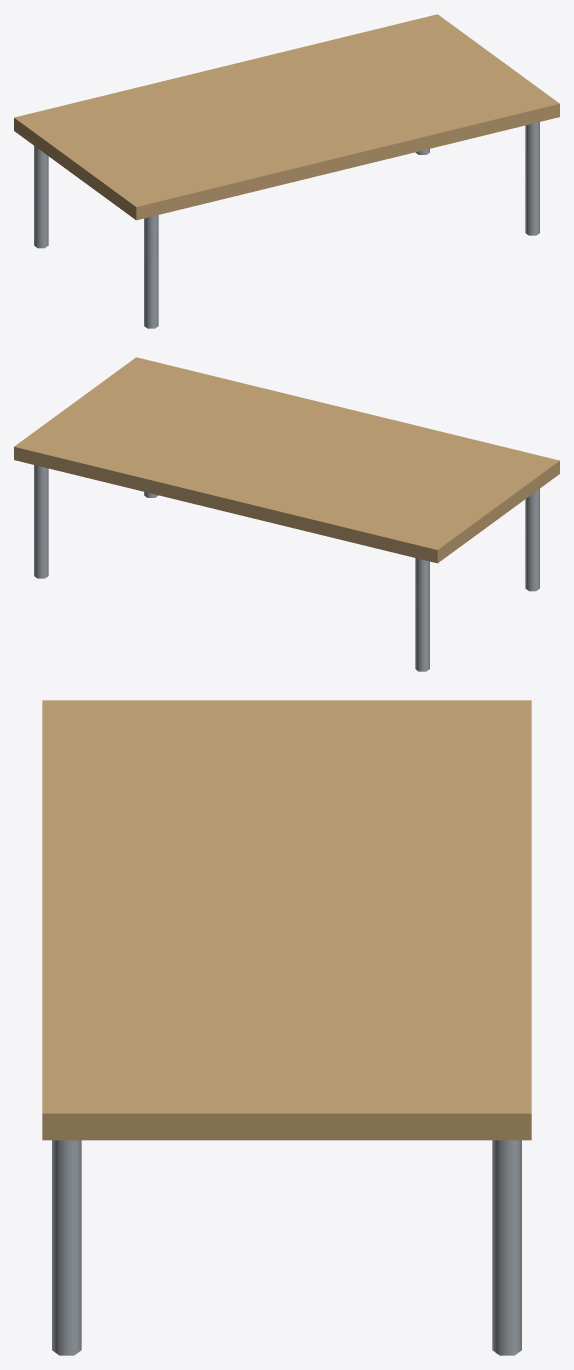
The model's file is table.glb.
3 renders of one model, top to bottom at view 1: azimuth 30°, elevation 25°; view 2: azimuth 150°, elevation 25°; view 3: azimuth 270°, elevation 25°, orthographic. The views are drawn at different scales.
Visible parts, largest first — view 1: Top, Legs; view 2: Top, Legs; view 3: Top, Legs.
Boxes of the visible parts, left/top/right/bottom form: Top: left=14, top=14, right=559, bottom=220; Legs: left=34, top=122, right=539, bottom=328; Top: left=14, top=357, right=559, bottom=563; Legs: left=34, top=465, right=539, bottom=671; Top: left=42, top=700, right=531, bottom=1140; Legs: left=52, top=1140, right=521, bottom=1355.
Bounding box in the file's own units: 2 × 0.58 × 1.
